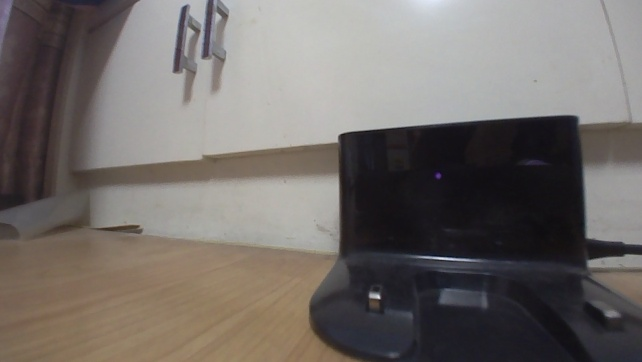charger: (306, 112, 641, 361)
wire: (585, 235, 641, 260)
